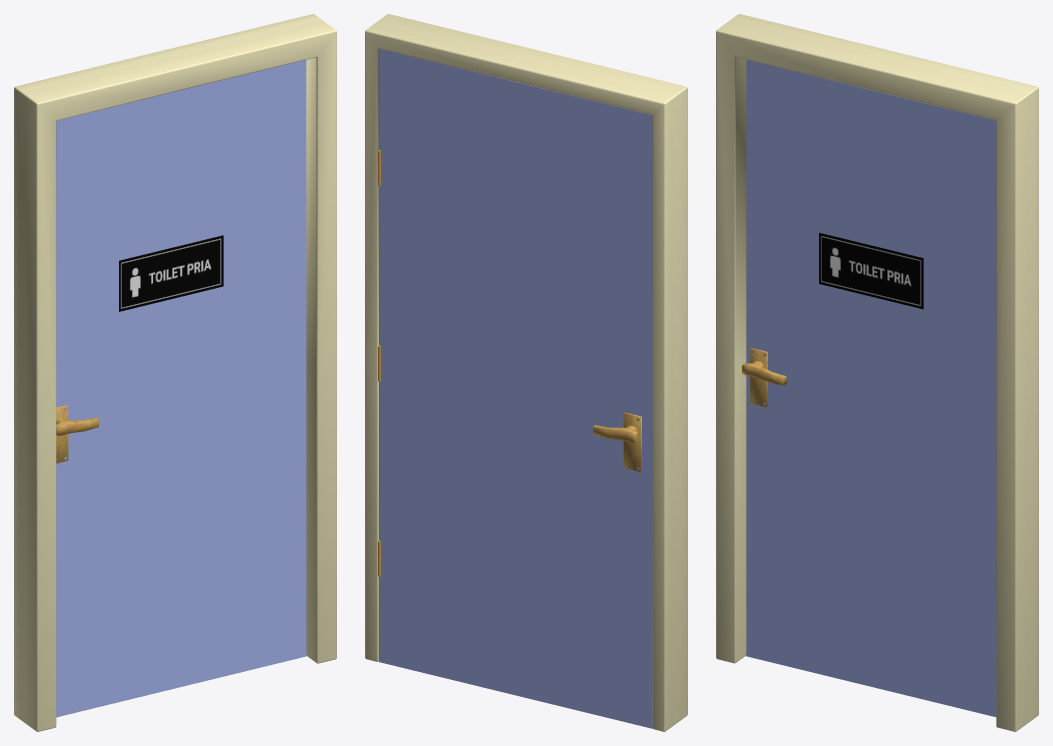
File: pintu toilet.fbx
3 views of the same model, side by side, from view 1: azimuth 30°, elevation 25°; view 2: azimuth 150°, elevation 25°; view 3: azimuth 330°, elevation 25° (orthographic).
Parts seen in each view (by area): view 1: kayu pintu.003, kerangka pintu.002, gambar pria, gagang pintu.005, pengunci pintu.001; view 2: kayu pintu.003, kerangka pintu.002, pengunci pintu.001, gagang pintu.005; view 3: kayu pintu.003, kerangka pintu.002, gambar pria, pengunci pintu.001, gagang pintu.005.
Part boxes in pixels (bbox=[...]): kayu pintu.003: bbox=[56, 60, 306, 717]; kerangka pintu.002: bbox=[14, 14, 336, 731]; gambar pria: bbox=[119, 235, 223, 311]; gagang pintu.005: bbox=[56, 417, 98, 435]; pengunci pintu.001: bbox=[56, 405, 68, 463]; kayu pintu.003: bbox=[379, 48, 652, 728]; kerangka pintu.002: bbox=[365, 14, 687, 731]; pengunci pintu.001: bbox=[623, 412, 641, 472]; gagang pintu.005: bbox=[593, 425, 637, 442]; kayu pintu.003: bbox=[746, 59, 996, 716]; kerangka pintu.002: bbox=[716, 14, 1038, 731]; gambar pria: bbox=[819, 232, 923, 309]; pengunci pintu.001: bbox=[750, 348, 767, 407]; gagang pintu.005: bbox=[742, 361, 786, 385].
Size of the model in its own units: 100 by 200 by 17.28.
6 materials, 4 textured.
